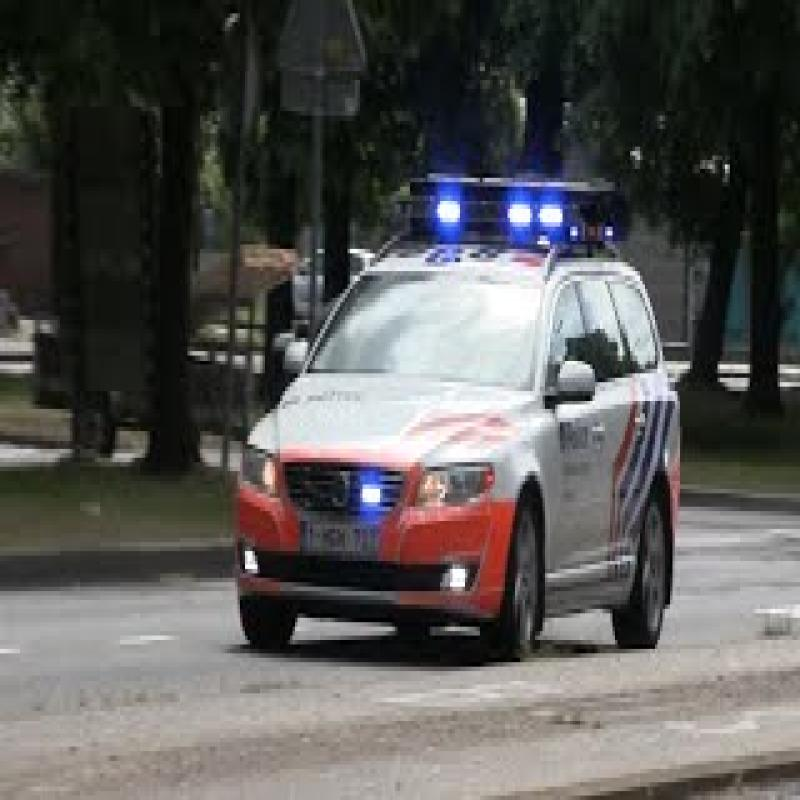AmbulanceSiren: (410, 150, 616, 279)
